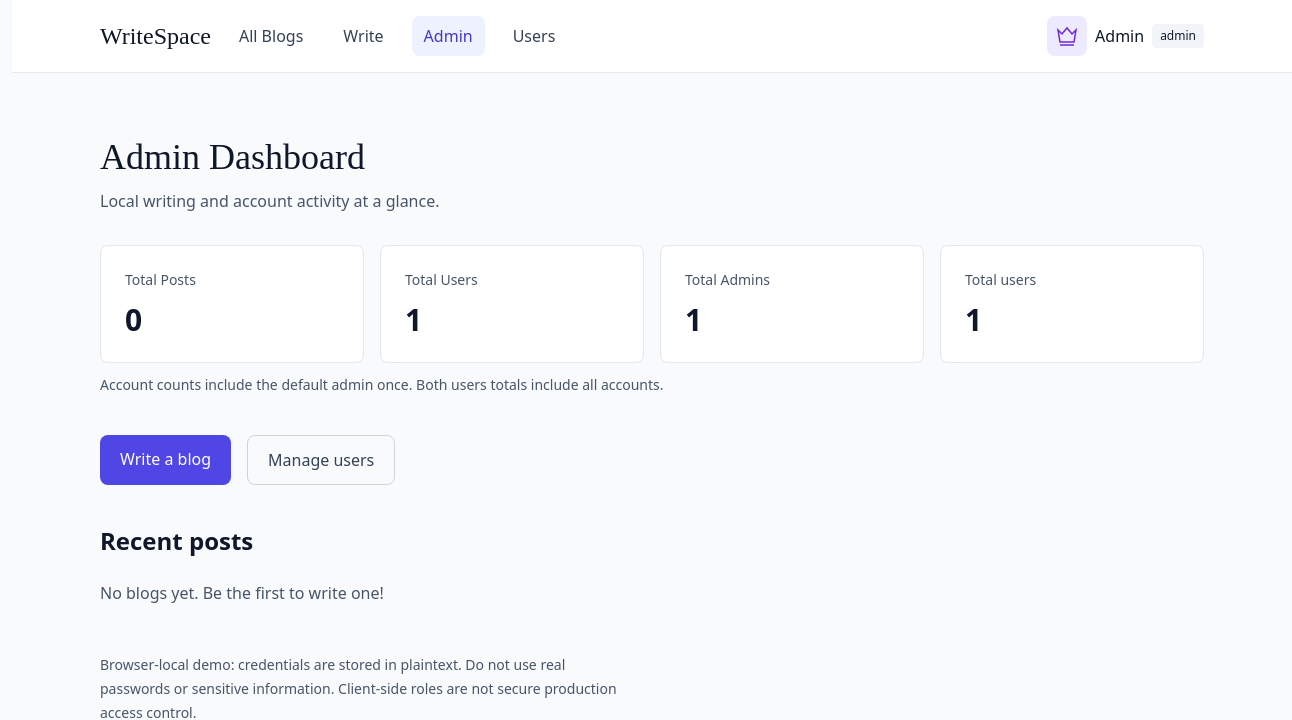
Scenario: quick action Write a blog routes only on activation
The image size is (1292, 720).
Click the link "Write a blog" at (166, 460), box top-left (100, 435), bottom-right (231, 485)
(page scrolled)
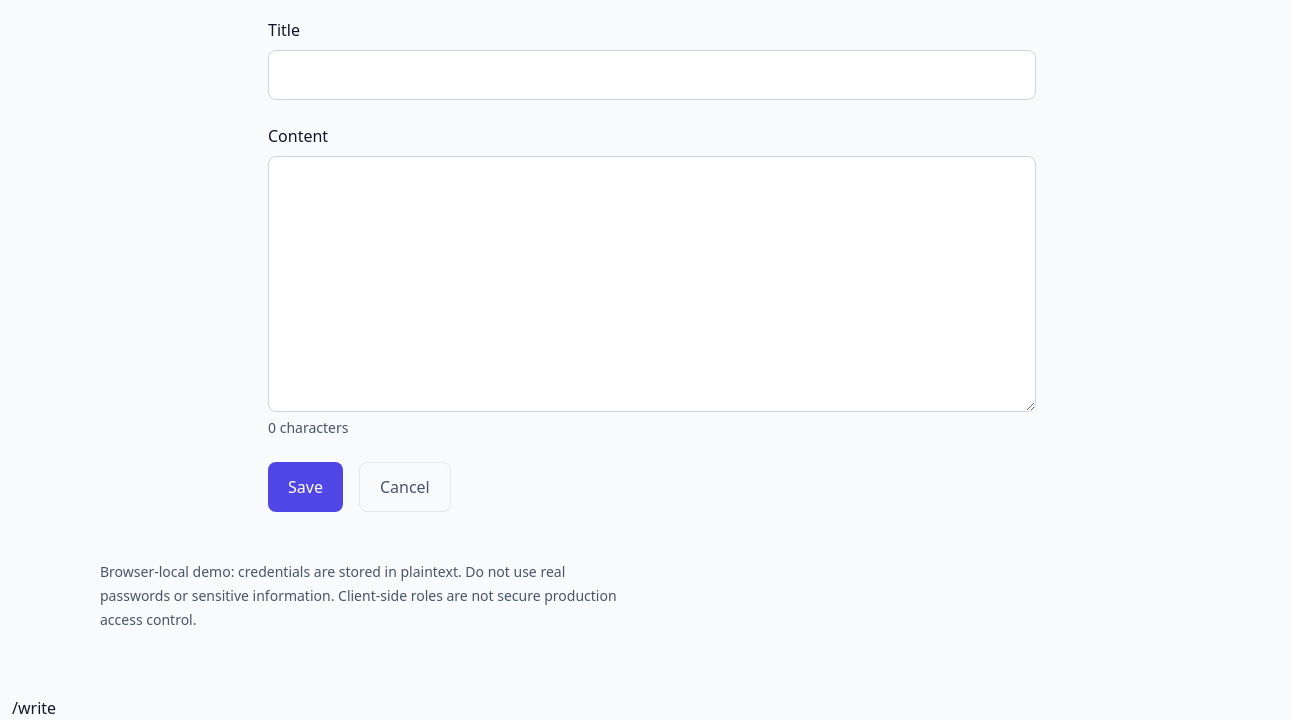
Result: the text named "Location" reads "/write" at top-left (12, 697), bottom-right (56, 719)
